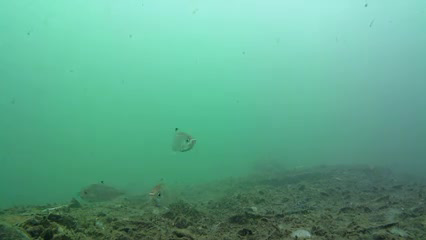smallfish: (78, 178, 137, 208), (161, 126, 197, 157)
